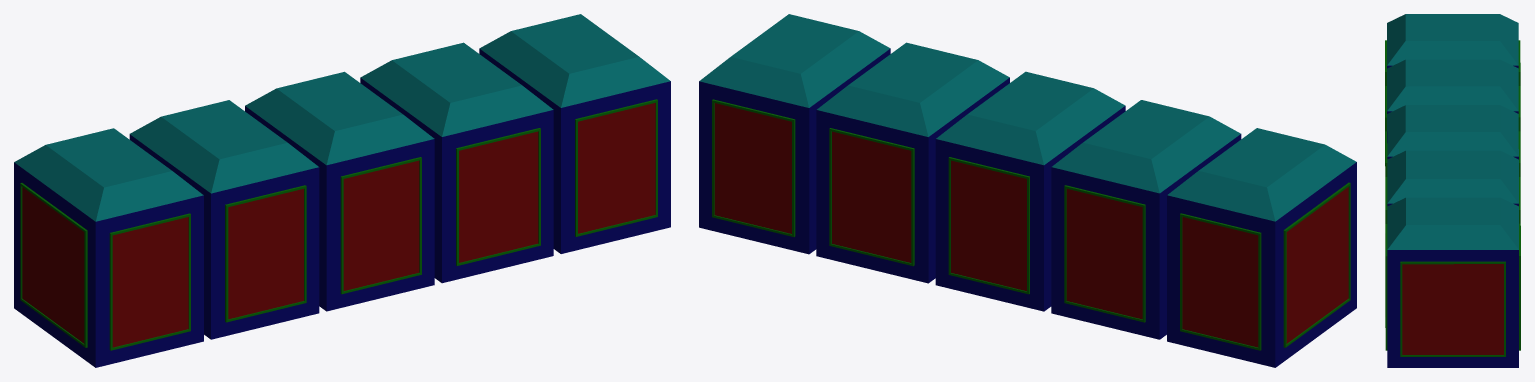
The model's file is WareHouseIDTest_05.glb.
The picture shows the model from 3 angles, left to right: view 1: azimuth 30°, elevation 25°; view 2: azimuth 150°, elevation 25°; view 3: azimuth 270°, elevation 25°; orthographic projection. The views are drawn at different scales.
Visible parts, largest first — view 1: geo2; view 2: geo2; view 3: geo2.
Part boxes in pixels (x1,y1,x2,y2): geo2: (14, 14, 670, 367); geo2: (699, 14, 1356, 367); geo2: (1385, 14, 1520, 367).
Bounding box in the file's own units: 0.029 × 0.008 × 0.0073.
